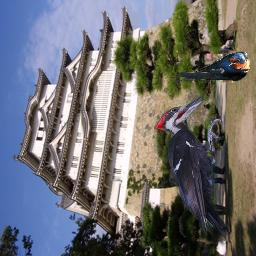Swallow: (170, 51, 251, 83)
Woodpecker: (154, 94, 230, 241)
